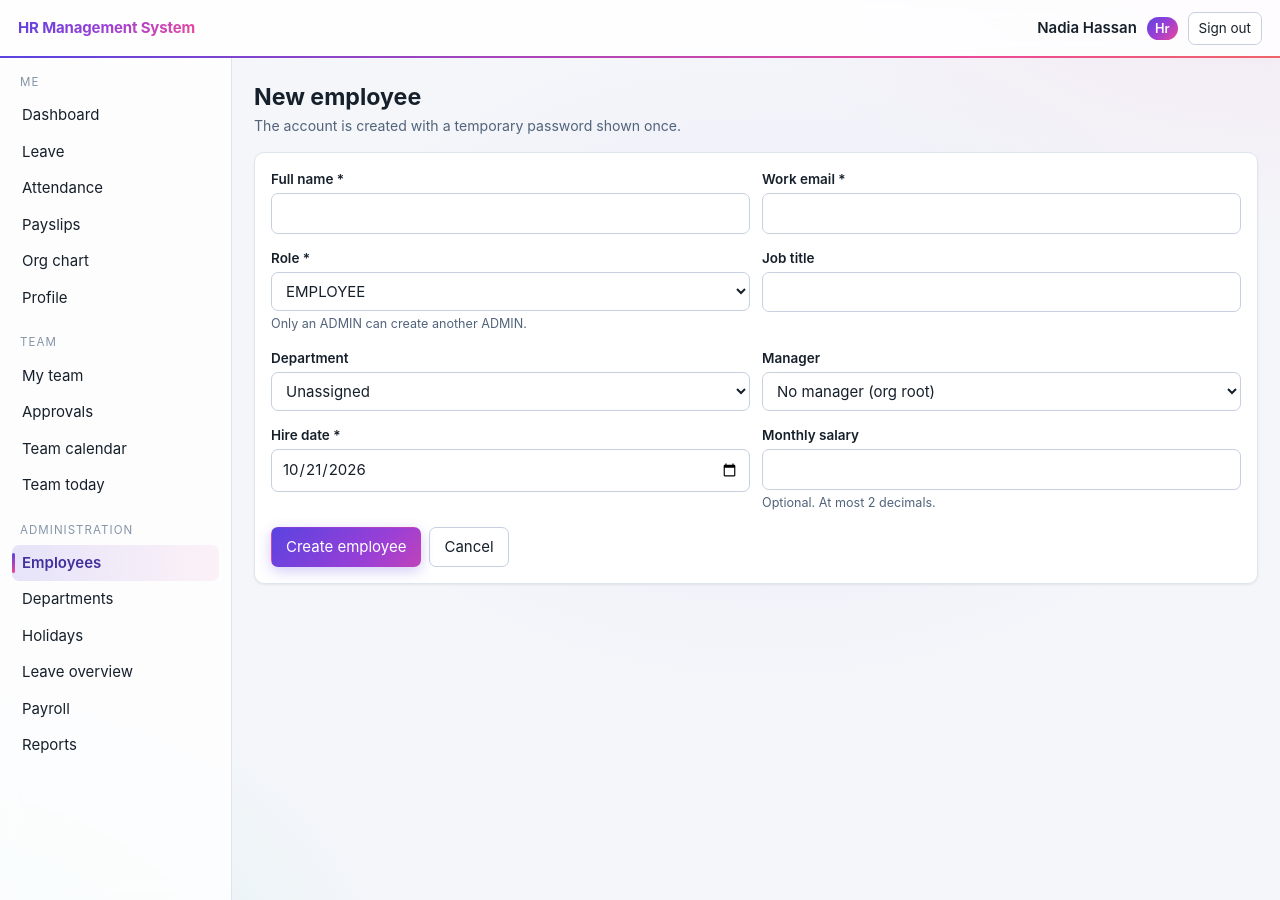
Scenario: create employee › blocks the submit and names the missing fields
Click the button "Create employee" at (346, 547), box [271, 527, 421, 567]
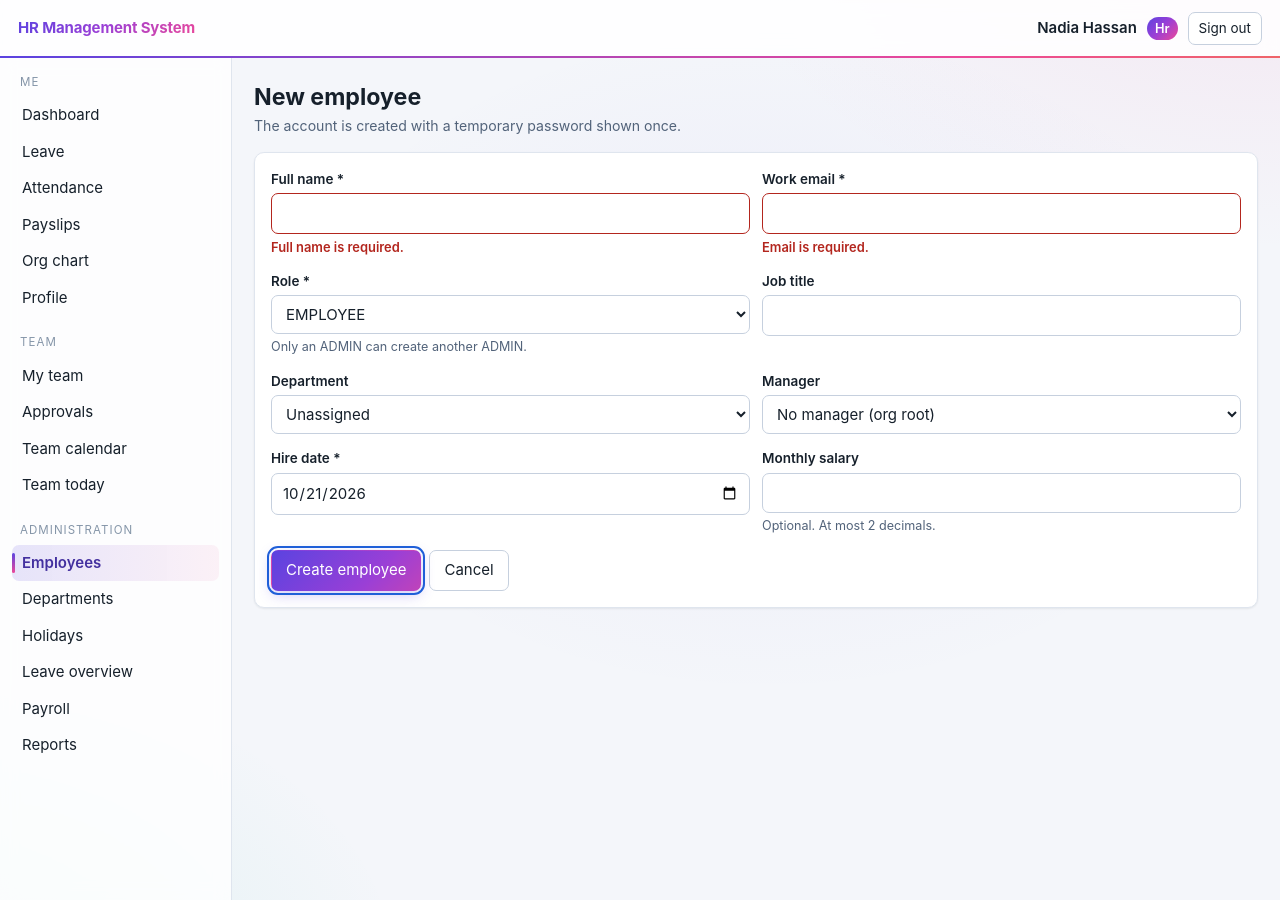
Check: the text "Full name is required." is shown, box [271, 240, 404, 255]
Check: the text "Email is required." is shown, box [762, 240, 869, 255]
